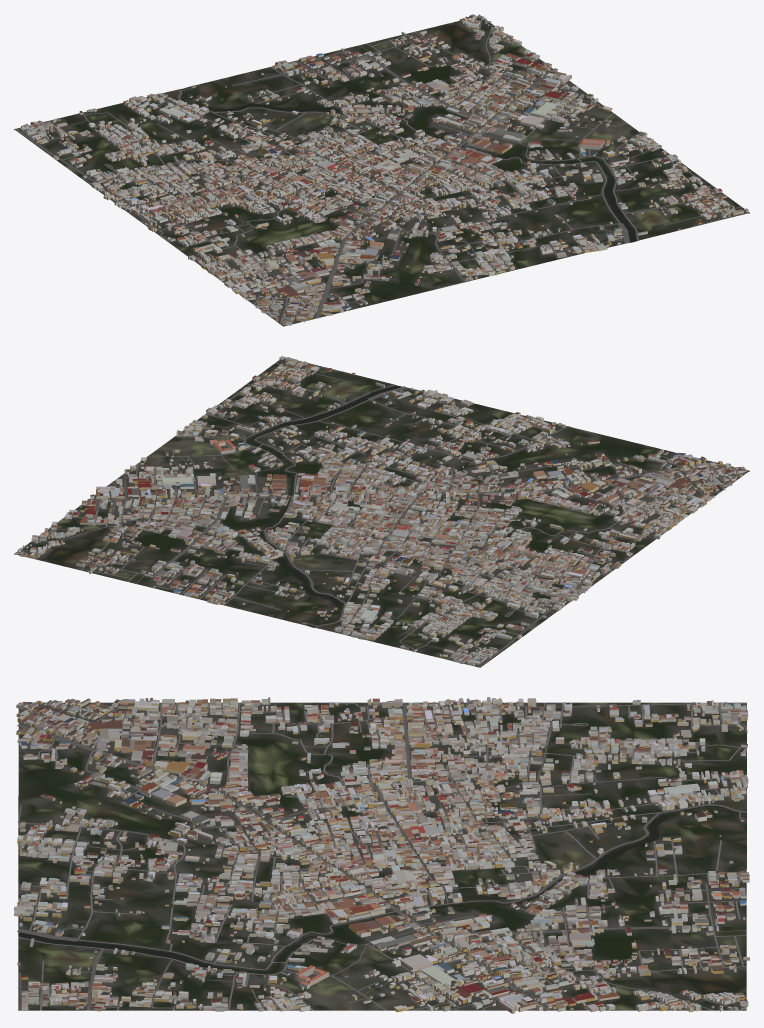
3 views of the same model, one above another, from view 1: azimuth 30°, elevation 25°; view 2: azimuth 150°, elevation 25°; view 3: azimuth 270°, elevation 25° (orthographic). The views are drawn at different scales.
Parts seen in each view (by area): view 1: buildings, ground, roads, water; view 2: buildings, ground, roads, water; view 3: buildings, ground, roads, water.
Part boxes in pixels (x1=…): buildings: x1=20, y1=14, x2=748, y2=325; ground: x1=14, y1=16, x2=749, y2=326; roads: x1=14, y1=17, x2=748, y2=324; water: x1=181, y1=89, x2=635, y2=242; buildings: x1=15, y1=356, x2=746, y2=665; ground: x1=14, y1=357, x2=749, y2=667; roads: x1=19, y1=358, x2=746, y2=667; water: x1=249, y1=385, x2=401, y2=627; buildings: x1=14, y1=697, x2=749, y2=1013; ground: x1=18, y1=702, x2=746, y2=1010; roads: x1=17, y1=702, x2=747, y2=1010; water: x1=18, y1=806, x2=746, y2=972.
Bounding box in the file's own units: 1423 × 19.66 × 1415.
